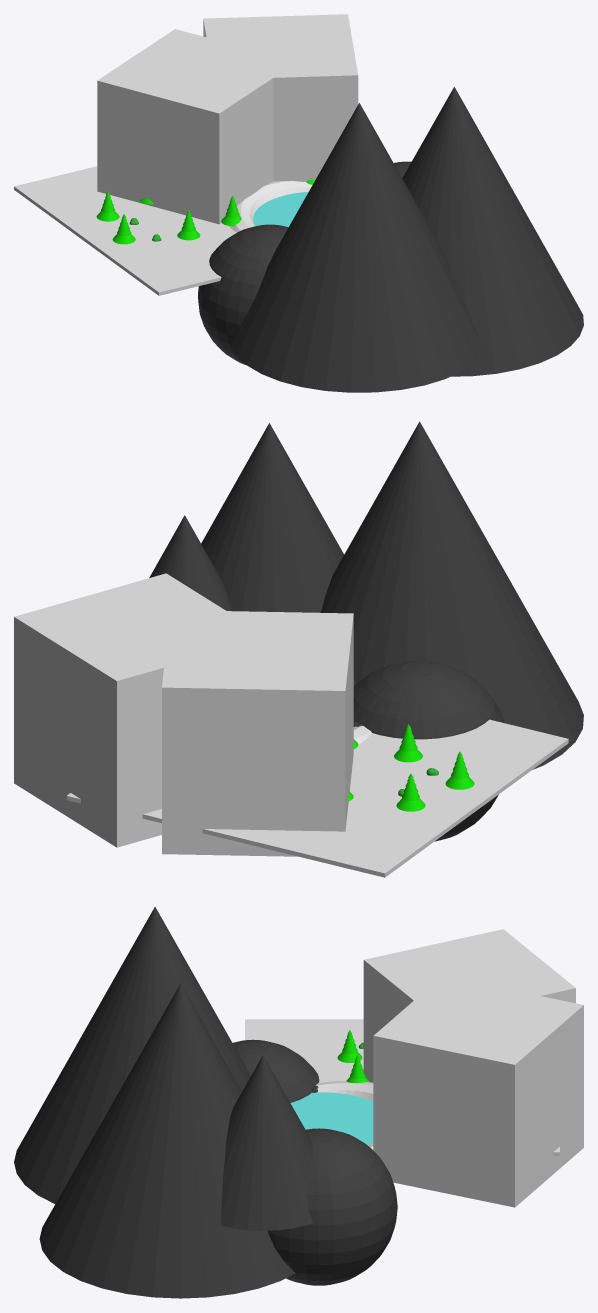
File: Diorama.dae
The picture shows the model from 3 angles, top to bottom: view 1: azimuth 30°, elevation 25°; view 2: azimuth 150°, elevation 25°; view 3: azimuth 270°, elevation 25°; orthographic projection. The views are drawn at different scales.
Visible parts, largest first — view 1: Cone.010, Cube.002, Cone.009, Cube.003, Cube, Sphere.001, Torus, Cube.001; view 2: Cube.002, Cube.003, Cone.010, Cube, Cone.009, Sphere.001, Cone.008, Cone.003, Cone.002, Cone.007; view 3: Cone.009, Cube.003, Cone.010, Cube.002, Sphere.003, Cone.008, Cube, Cube.001, Sphere.001, Torus.
Part boxes in pixels (box(x1,y1,x2,y2)): Cone.010: box(230, 103, 484, 392); Cube.002: box(97, 29, 296, 224); Cone.009: box(402, 87, 583, 376); Cube.003: box(203, 14, 358, 181); Cube: box(14, 166, 236, 295); Sphere.001: box(198, 224, 288, 365); Torus: box(229, 181, 312, 232); Cube.001: box(253, 191, 308, 226); Cube.002: box(162, 610, 353, 856); Cube.003: box(14, 573, 268, 847); Cone.010: box(321, 421, 583, 769); Cube: box(66, 719, 568, 877); Cone.009: box(201, 423, 344, 612); Sphere.001: box(353, 661, 504, 841); Cone.008: box(149, 515, 231, 611); Cone.003: box(396, 773, 425, 811); Cone.002: box(445, 751, 474, 789); Cone.007: box(394, 724, 422, 762); Cone.009: box(39, 983, 295, 1298); Cube.003: box(373, 976, 583, 1207); Cone.010: box(14, 907, 250, 1203); Cube.002: box(363, 929, 575, 1082); Sphere.003: box(267, 1128, 397, 1285); Cone.008: box(220, 1055, 312, 1230); Cube: box(245, 1019, 559, 1155); Cube.001: box(290, 1092, 373, 1145); Sphere.001: box(232, 1039, 319, 1102); Torus: box(315, 1080, 373, 1149).
Bounding box in the file's own units: 6.03 × 7.24 × 4.3.
